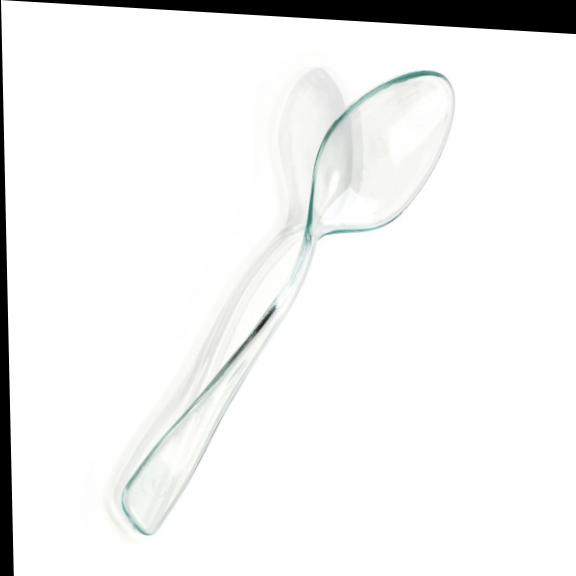Plastik: (122, 72, 453, 534)
